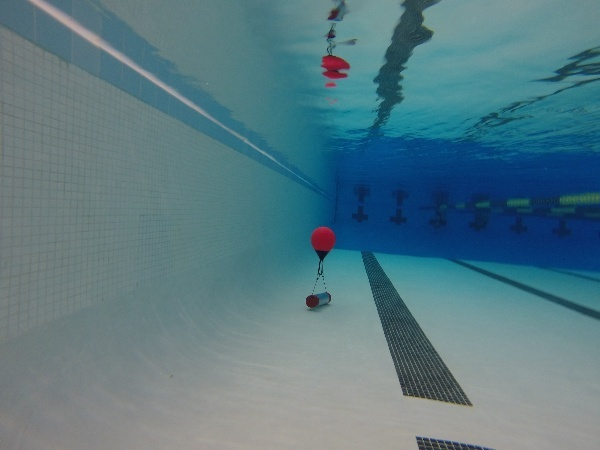buoy_red: (309, 224, 337, 262)
